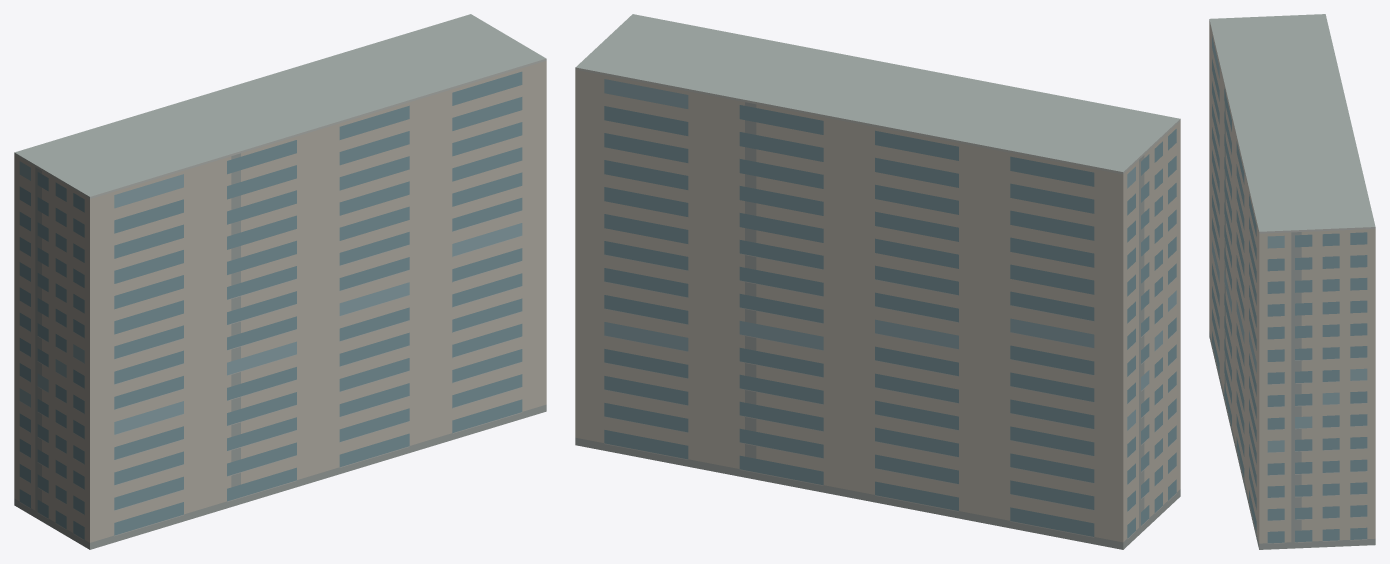
The model's file is residential-4603e869-5735-4771-bc0d-657dd243c658.glb.
3 views of the same model, side by side, from view 1: azimuth 30°, elevation 25°; view 2: azimuth 150°, elevation 25°; view 3: azimuth 270°, elevation 25° (orthographic). The views are drawn at different scales.
Visible parts, largest first — view 1: residential-4603e869-5735-4771-bc0d-657dd243c658.tmp; view 2: residential-4603e869-5735-4771-bc0d-657dd243c658.tmp; view 3: residential-4603e869-5735-4771-bc0d-657dd243c658.tmp.
Part boxes in pixels (bbox=[...]): residential-4603e869-5735-4771-bc0d-657dd243c658.tmp: bbox=[14, 14, 546, 549]; residential-4603e869-5735-4771-bc0d-657dd243c658.tmp: bbox=[575, 14, 1180, 549]; residential-4603e869-5735-4771-bc0d-657dd243c658.tmp: bbox=[1209, 14, 1375, 549].
Bounding box in the file's own units: 58.73 × 40 × 18.95.
